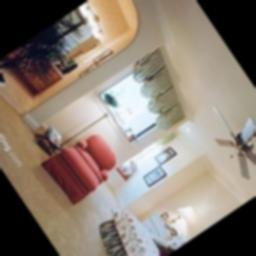Matera: (0, 17, 84, 118)
